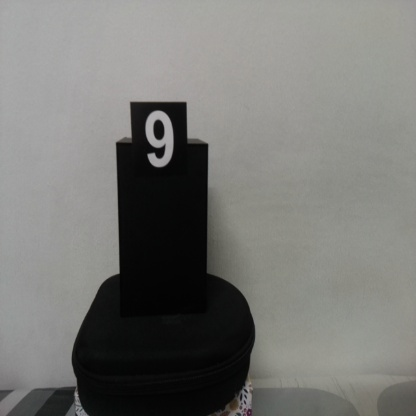id_9: (130, 103, 189, 191)
